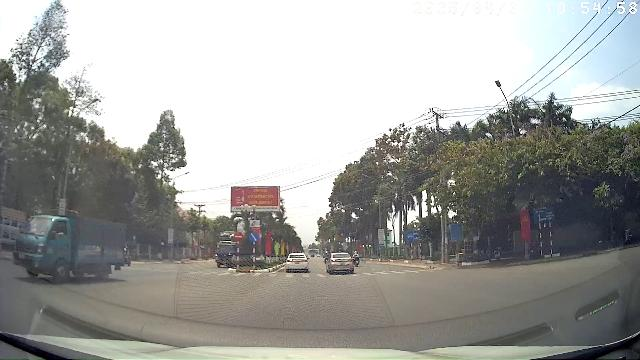102-cam-di-nguoc-chieu: (234, 231, 242, 241)
302a-huong-phai-di-vong-chuong-ngai-vat-1: (249, 232, 259, 242)
